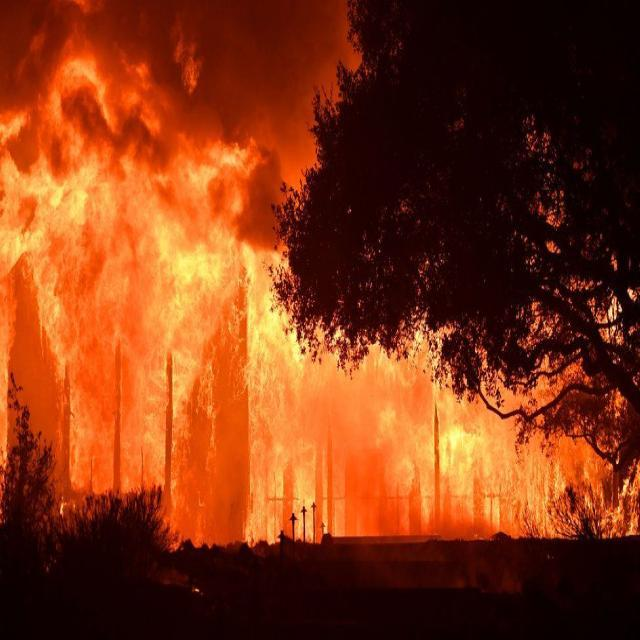Fire: (5, 128, 284, 537), (292, 362, 584, 532)
Smoke: (1, 4, 334, 131)
